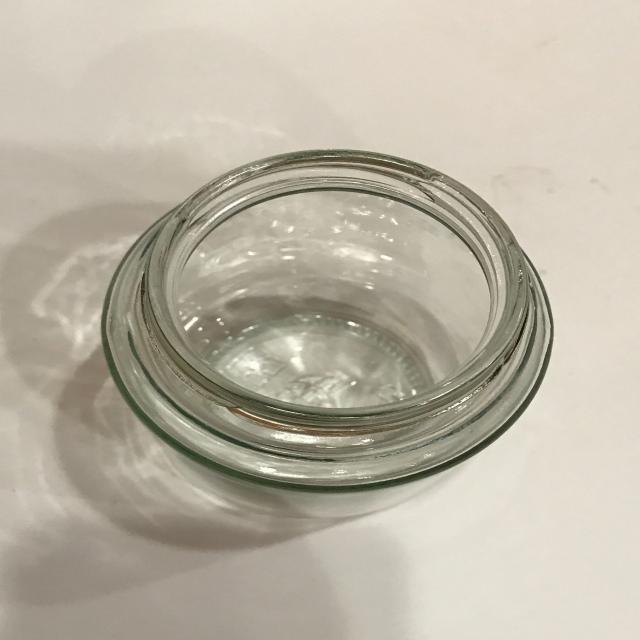glass: (98, 148, 554, 496)
